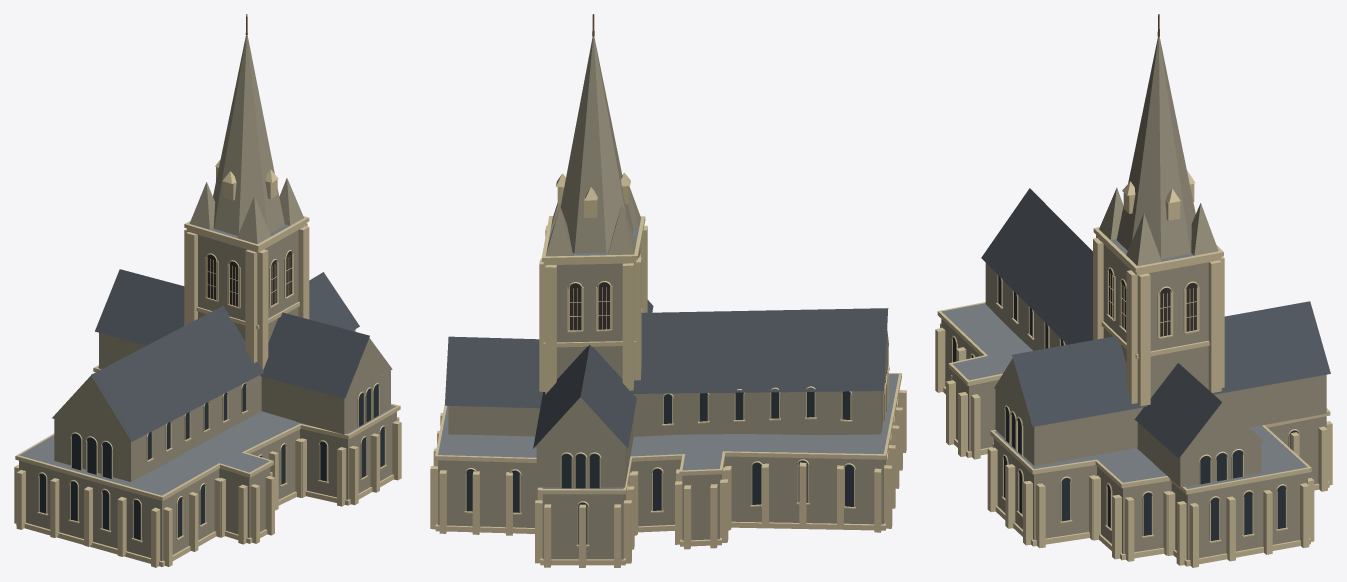
The model's file is st_johns_notting_hill.glb.
3 renders of one model, left to right at view 1: azimuth 30°, elevation 25°; view 2: azimuth 150°, elevation 25°; view 3: azimuth 270°, elevation 25°, orthographic. The views are drawn at different scales.
Size of the model in its own units: 42.58 by 48.05 by 35.39.
